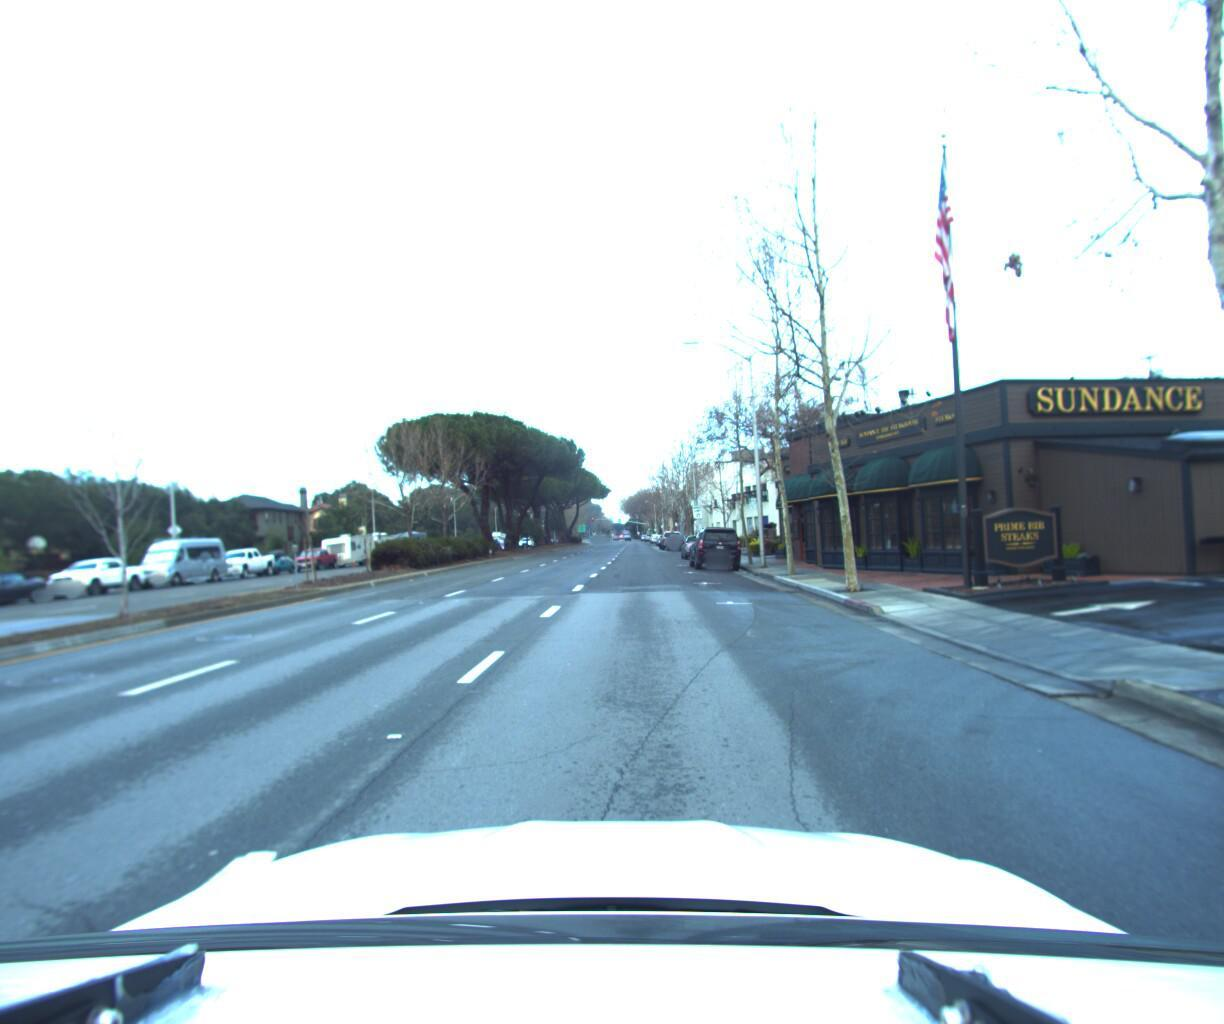car: (127, 532, 239, 591), (39, 555, 157, 603), (203, 545, 282, 582), (0, 570, 60, 617), (686, 521, 744, 563), (289, 544, 343, 573), (252, 547, 300, 575), (679, 529, 715, 555), (664, 528, 689, 547)
other_vehicle: (318, 528, 380, 567)
